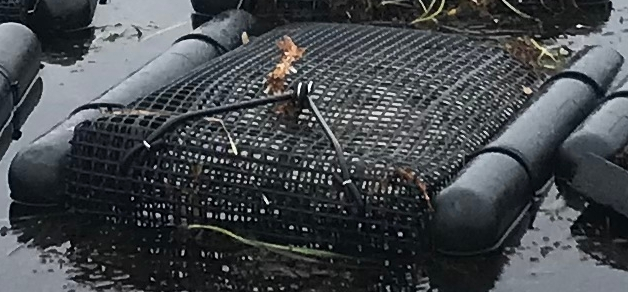bag: (8, 7, 628, 258)
